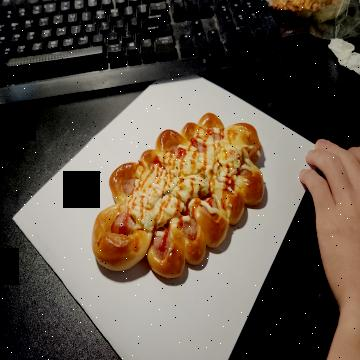pizza_bread: (95, 112, 264, 276)
